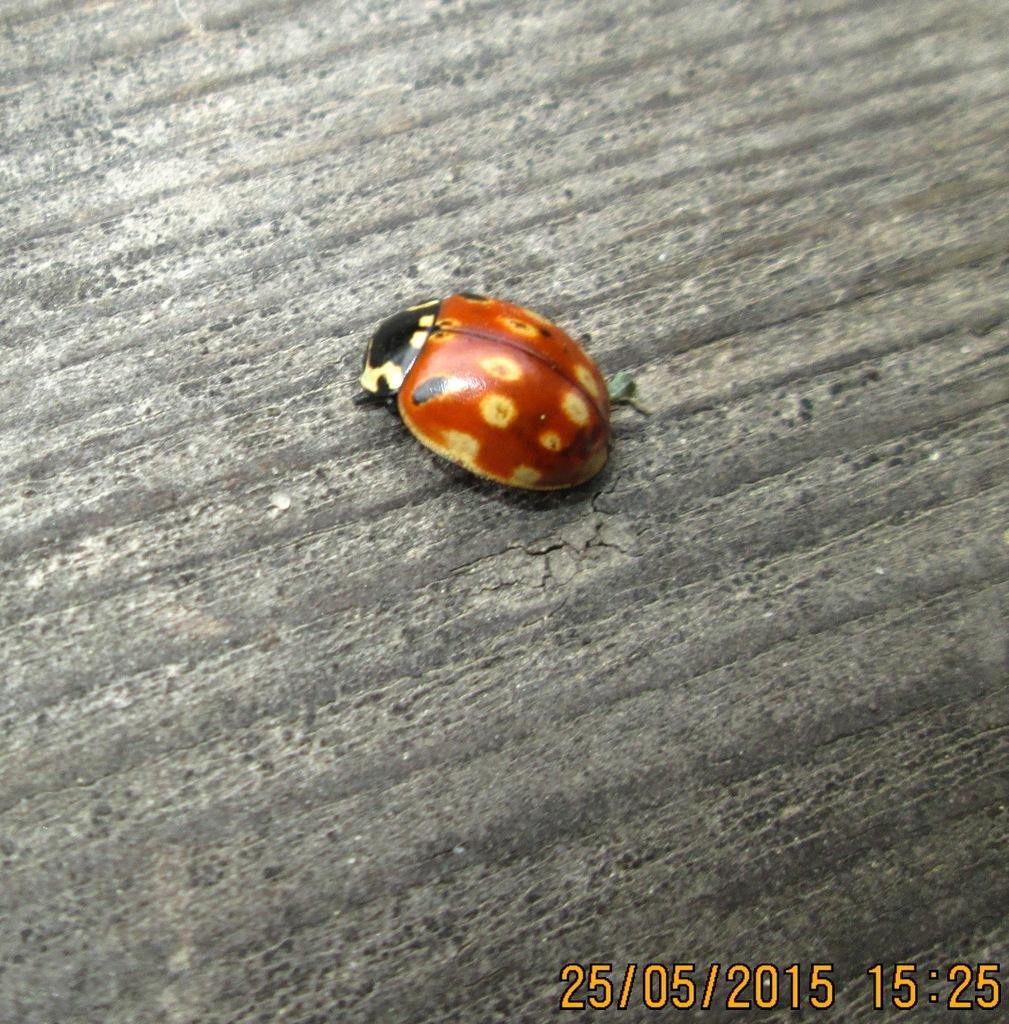ladybug: (356, 286, 654, 496)
